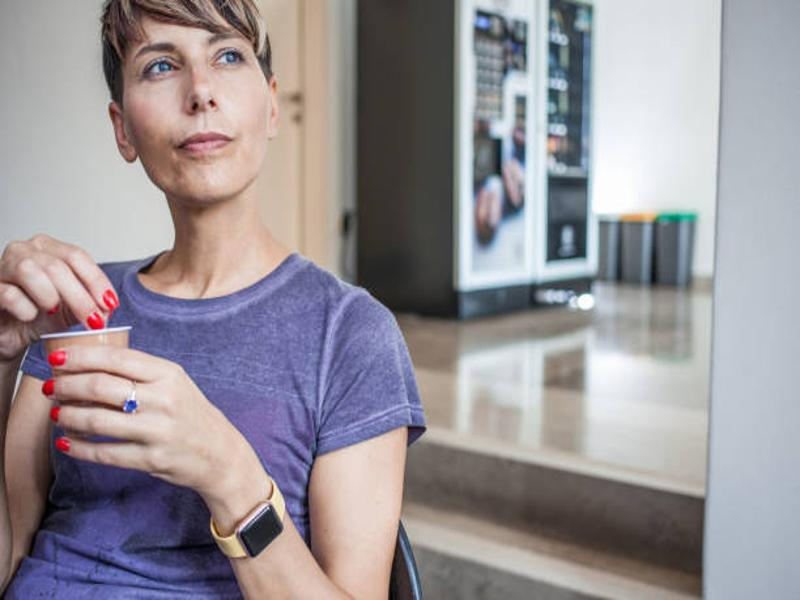watch: (206, 475, 290, 561)
